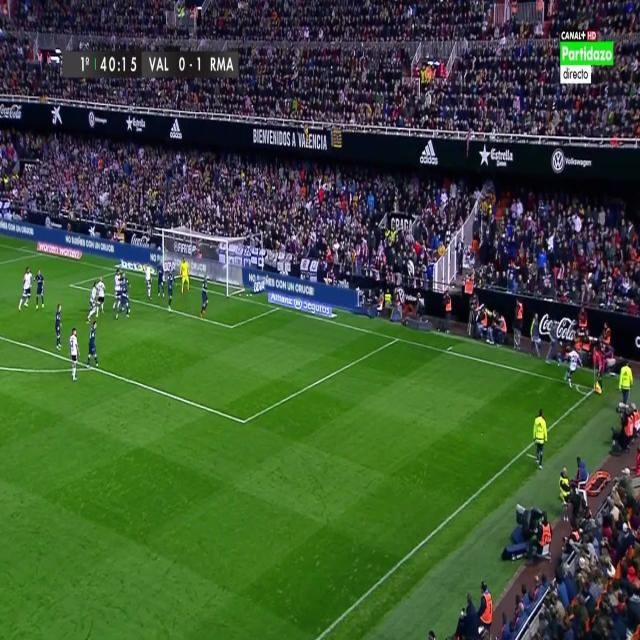Goalkeeper: (179, 254, 193, 299)
Player: (564, 348, 586, 390), (68, 323, 81, 384), (17, 266, 33, 314), (86, 321, 101, 370), (198, 274, 211, 323), (115, 282, 129, 326), (164, 267, 176, 317), (34, 268, 47, 314), (54, 302, 64, 353), (84, 280, 97, 319), (97, 272, 107, 318), (112, 265, 121, 311), (144, 262, 153, 306), (157, 258, 164, 300)
